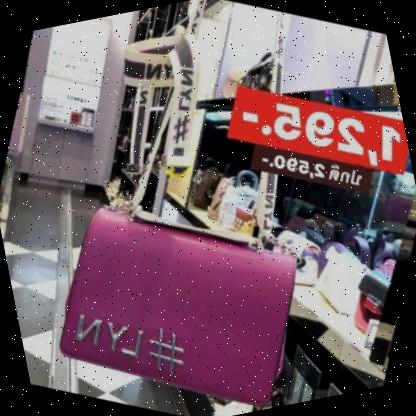bag: (31, 168, 333, 416)
